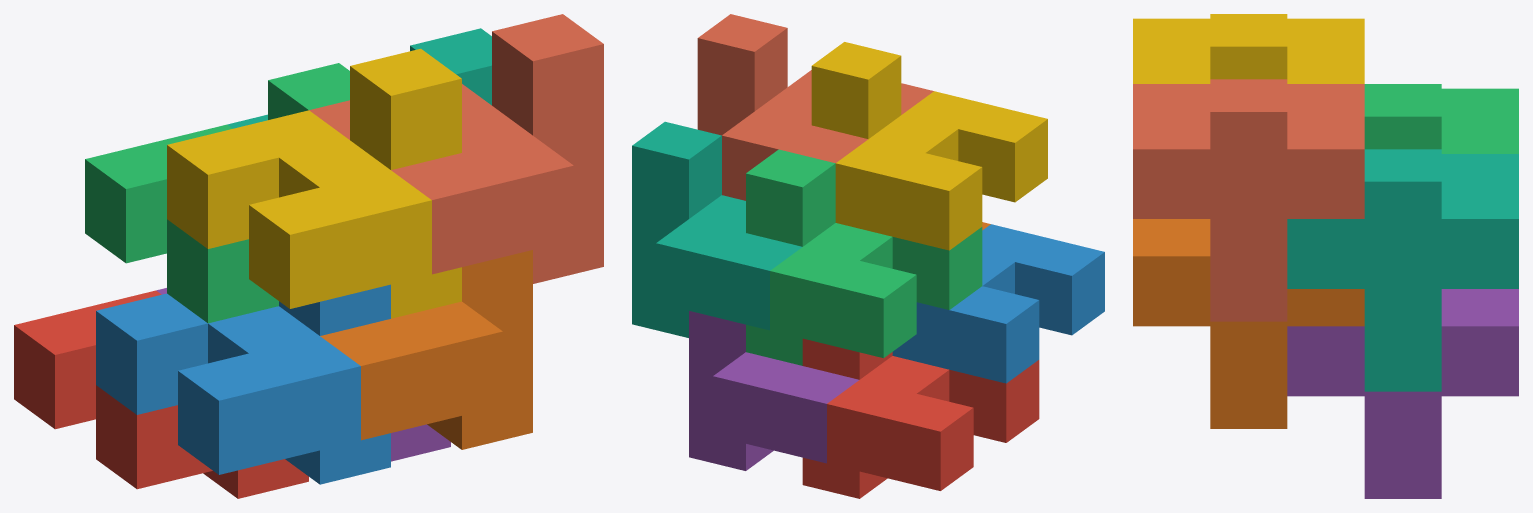
File: tiling.obj
3 views of the same model, side by side, from view 1: azimuth 30°, elevation 25°; view 2: azimuth 150°, elevation 25°; view 3: azimuth 270°, elevation 25° (orthographic). The views are drawn at different scales.
Visible parts, largest first — view 1: copy_1_domain_4, copy_1_domain_2, copy_1_domain_8, copy_1_domain_6, copy_1_domain_3, copy_1_domain_1, copy_1_domain_7, copy_1_domain_5; view 2: copy_1_domain_4, copy_1_domain_3, copy_1_domain_1, copy_1_domain_7, copy_1_domain_2, copy_1_domain_5, copy_1_domain_8; view 3: copy_1_domain_8, copy_1_domain_7, copy_1_domain_5, copy_1_domain_6, copy_1_domain_4, copy_1_domain_3.
Part boxes in pixels (x1,y1,x2,y2): copy_1_domain_4: (167, 48, 461, 318); copy_1_domain_2: (96, 284, 390, 484); copy_1_domain_8: (309, 14, 603, 283); copy_1_domain_6: (320, 250, 532, 449); copy_1_domain_3: (85, 63, 349, 323); copy_1_domain_1: (14, 290, 308, 498); copy_1_domain_7: (227, 28, 491, 128); copy_1_domain_5: (156, 288, 450, 461); copy_1_domain_4: (811, 42, 1047, 250); copy_1_domain_3: (746, 149, 982, 365); copy_1_domain_1: (802, 338, 1039, 498); copy_1_domain_7: (632, 121, 801, 337); copy_1_domain_2: (892, 224, 1104, 383); copy_1_domain_5: (689, 311, 858, 470); copy_1_domain_8: (697, 14, 933, 200); copy_1_domain_8: (1133, 79, 1364, 321); copy_1_domain_7: (1287, 149, 1518, 391); copy_1_domain_5: (1287, 289, 1518, 498); copy_1_domain_6: (1133, 219, 1364, 428); copy_1_domain_4: (1133, 14, 1364, 83); copy_1_domain_3: (1364, 84, 1518, 153).
Size of the model in its own units: 6 by 6 by 5.
